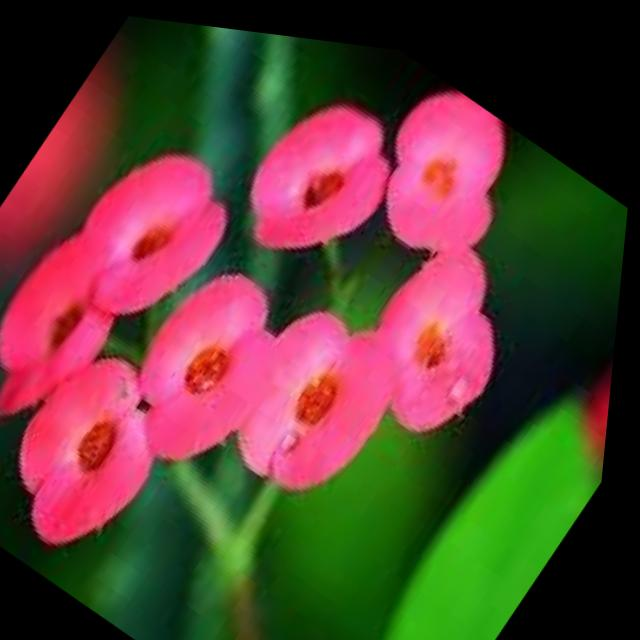Flower: (72, 188, 348, 511), (22, 78, 283, 377), (197, 257, 454, 541), (334, 206, 559, 453), (332, 49, 557, 285), (0, 328, 209, 580), (222, 73, 429, 280), (0, 202, 170, 453)
